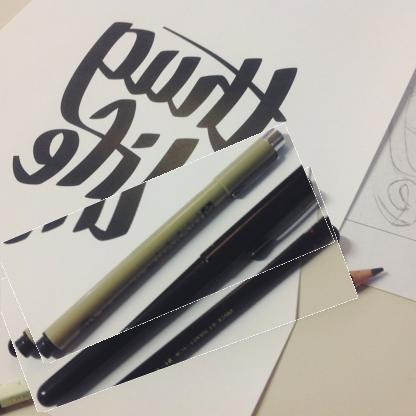Pen: (1, 194, 352, 387), (1, 151, 328, 336)
